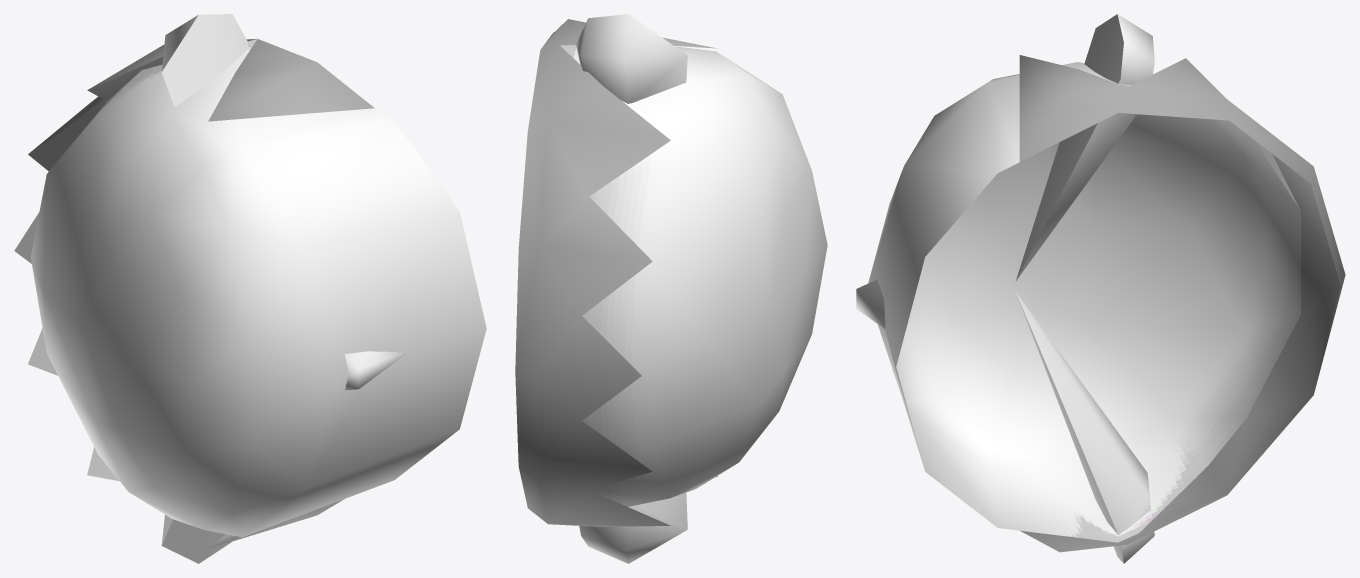
File: boy09b.dae
3 views of the same model, side by side, from view 1: azimuth 30°, elevation 25°; view 2: azimuth 150°, elevation 25°; view 3: azimuth 270°, elevation 25° (orthographic).
Visible parts, largest first — view 1: boy09b; view 2: boy09b; view 3: boy09b.
Part boxes in pixels (x1=…): boy09b: x1=14, y1=14, x2=486, y2=563; boy09b: x1=515, y1=14, x2=827, y2=563; boy09b: x1=856, y1=14, x2=1345, y2=563.
Size of the model in its own units: 15.5 by 26.71 by 21.81.
Materials: 3 (1 with a texture image).
